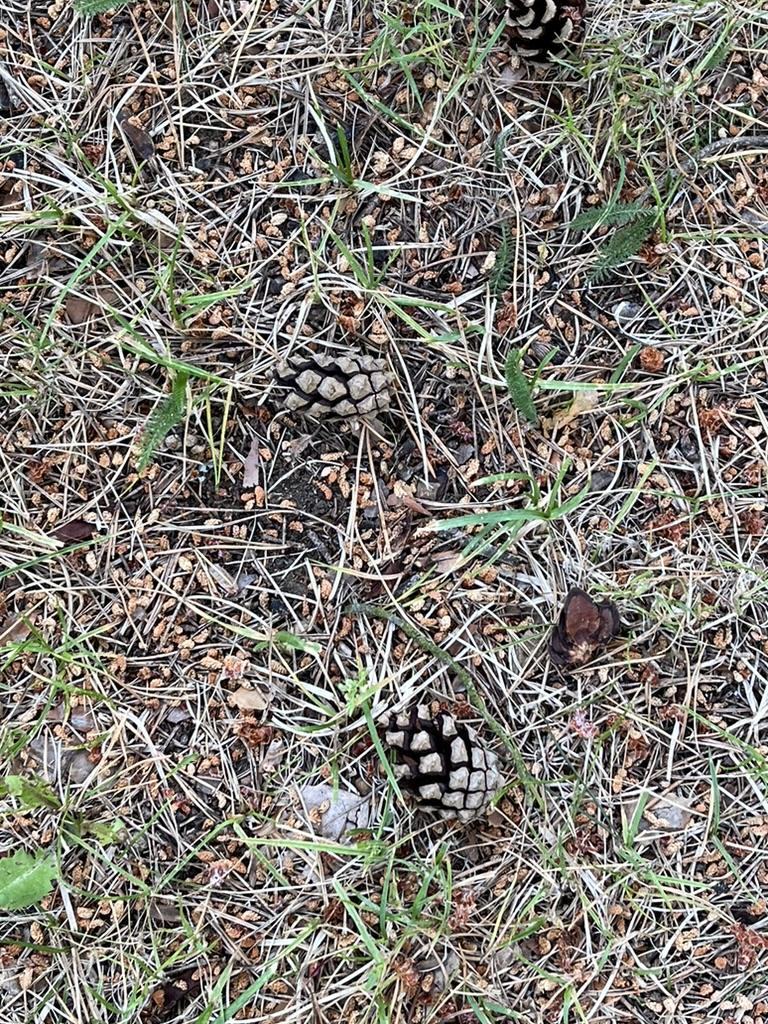pine: (258, 323, 431, 456), (376, 703, 524, 840), (483, 0, 618, 78)
